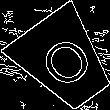O_SE: (30, 28, 98, 94)
